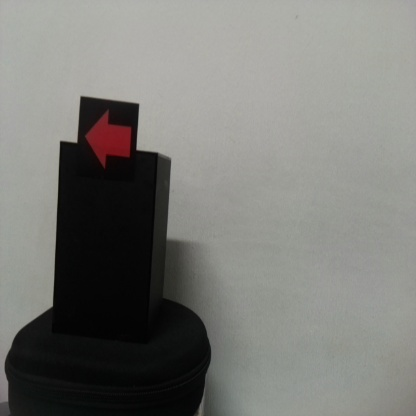id_4: (81, 100, 138, 183)
